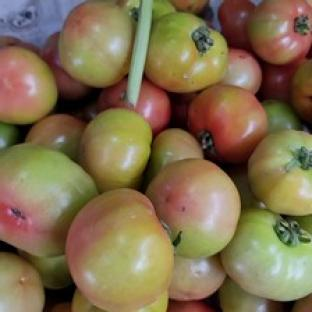Tomato: (66, 189, 174, 311), (145, 159, 240, 257), (221, 208, 311, 300), (145, 12, 228, 93), (78, 108, 151, 192), (189, 84, 267, 162), (248, 130, 311, 215), (0, 46, 58, 125), (97, 77, 171, 136), (41, 31, 91, 101), (144, 129, 203, 183), (24, 113, 86, 161), (169, 254, 225, 300), (218, 276, 288, 311), (258, 59, 306, 103), (221, 48, 261, 94), (262, 99, 302, 133), (290, 59, 311, 123), (169, 92, 197, 129), (0, 122, 22, 149), (168, 300, 215, 311), (292, 293, 311, 311)
